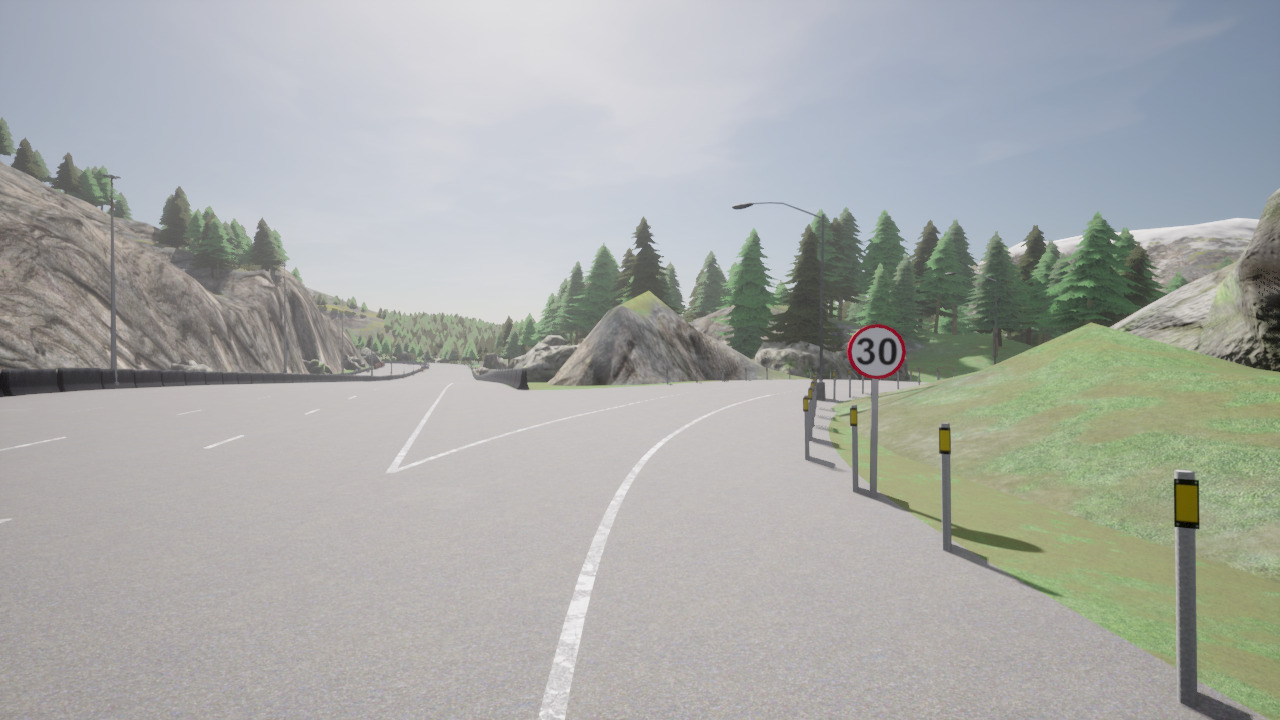sl30: (846, 323, 908, 381)
